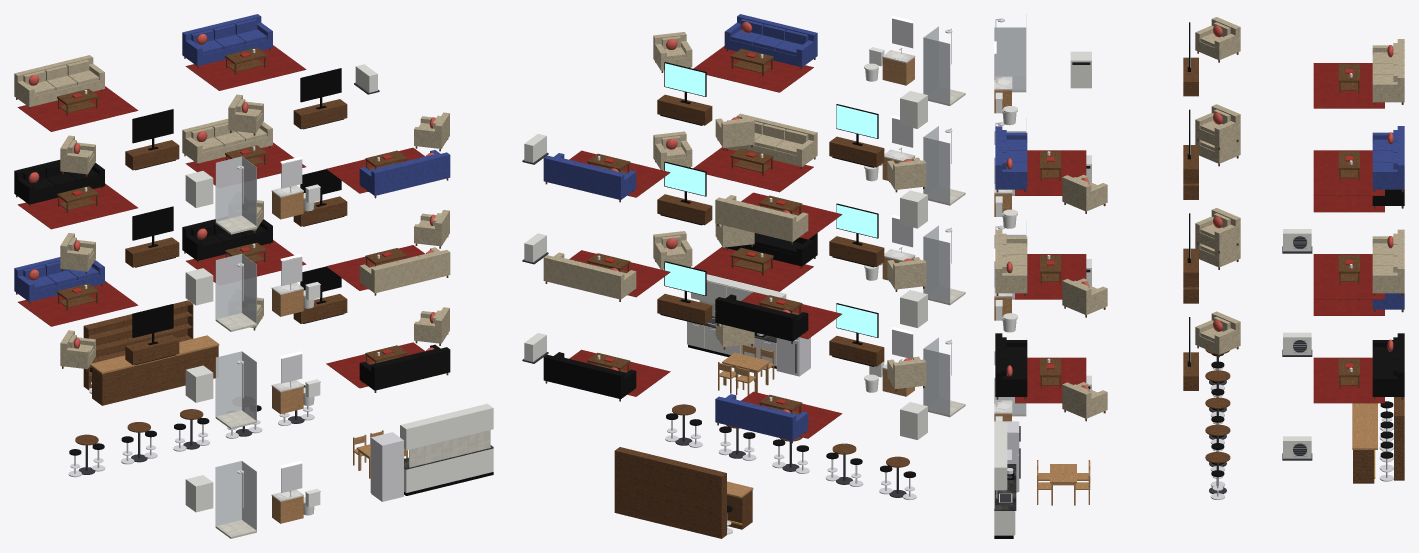
The model's file is i_karaoke_stardust.gltf.
3 views of the same model, side by side, from view 1: azimuth 30°, elevation 25°; view 2: azimuth 150°, elevation 25°; view 3: azimuth 270°, elevation 25° (orthographic). The views are drawn at different scales.
Parts seen in each view (by area): view 1: I_karaoke_stardust; view 2: I_karaoke_stardust; view 3: I_karaoke_stardust.
Part boxes in pixels (x1,y1,x2,y2): I_karaoke_stardust: [14, 14, 493, 538]; I_karaoke_stardust: [522, 14, 965, 538]; I_karaoke_stardust: [994, 14, 1404, 538].
Bounding box in the file's own units: 12.05 × 12.05 × 11.49.
22 materials, 9 textured.
